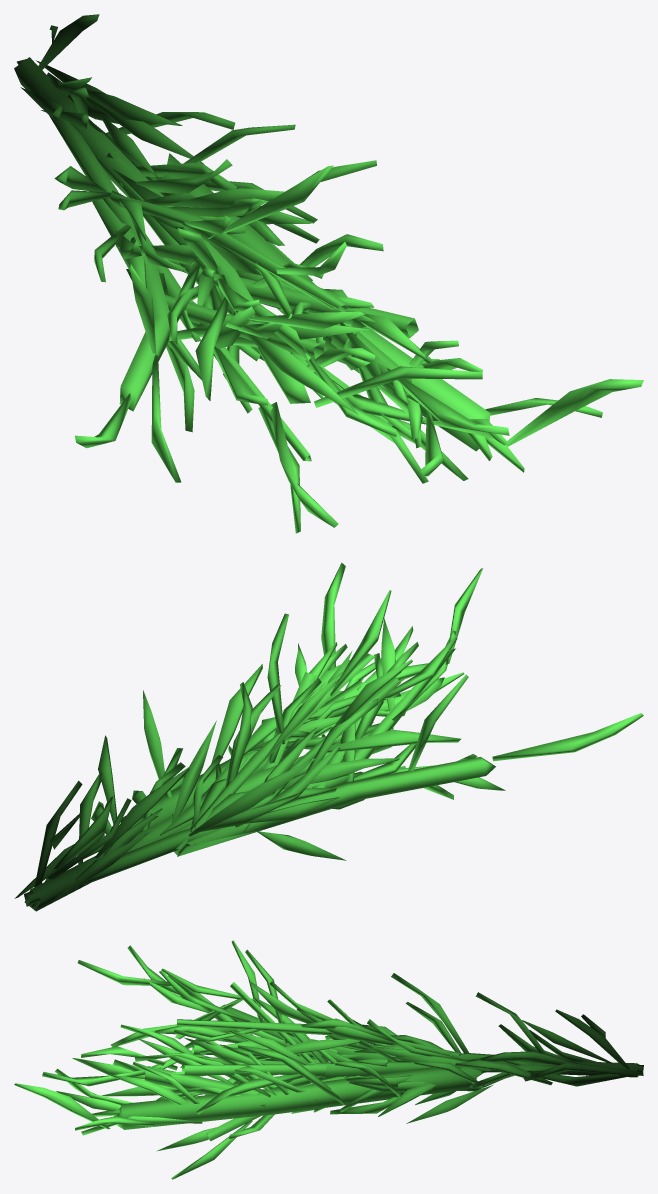
File: rosemary_garum_section.fbx
3 renders of one model, top to bottom at view 1: azimuth 30°, elevation 25°; view 2: azimuth 150°, elevation 25°; view 3: azimuth 270°, elevation 25°, orthographic. The views are drawn at different scales.
Visible parts, largest first — view 1: Herbs.001; view 2: Herbs.001; view 3: Herbs.001.
Part boxes in pixels (x1,y1,x2,y2): Herbs.001: (14,14,643,533); Herbs.001: (14,562,643,911); Herbs.001: (14,940,643,1179).
Bounding box in the file's own units: 21.23 × 11.93 × 38.92.
1 material, 1 textured.
